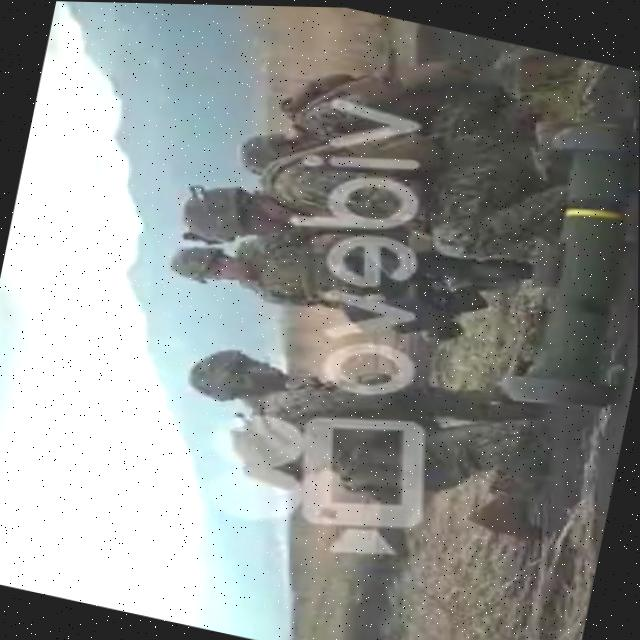rocket: (452, 91, 640, 420)
